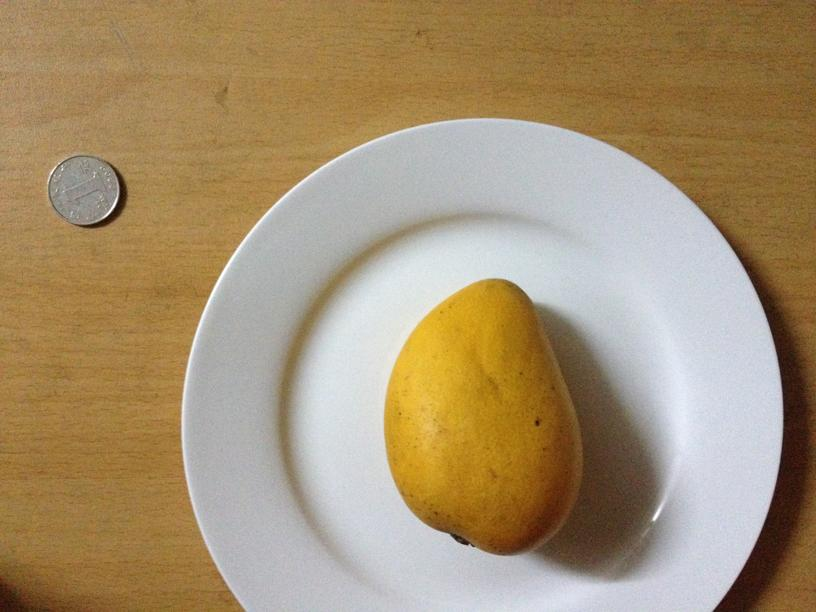coin: (49, 153, 121, 226)
mango: (383, 277, 584, 557)
